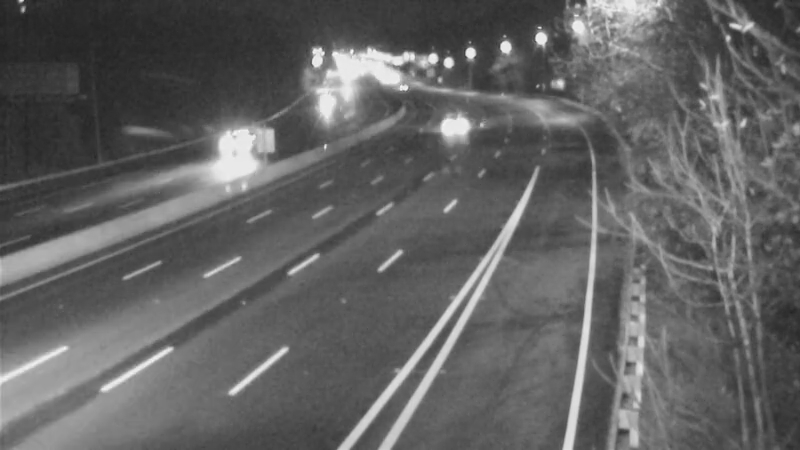vehicle: (377, 65, 427, 115), (430, 99, 480, 149), (218, 118, 268, 168), (301, 75, 351, 125)
